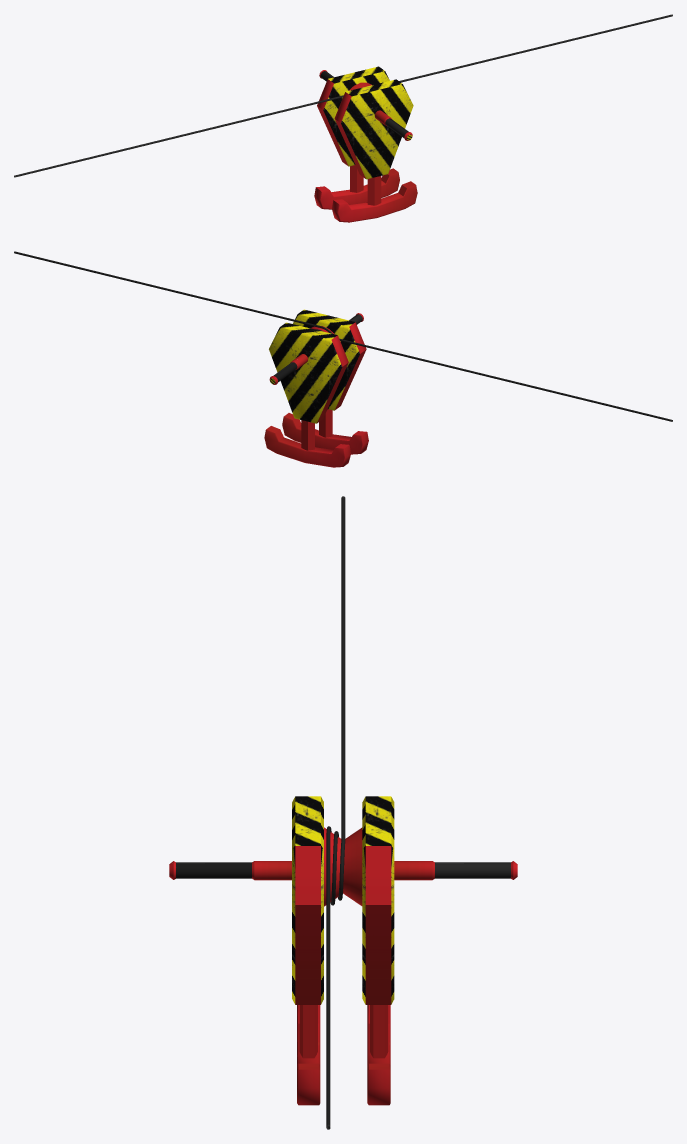
File: Zipline.FBX
The picture shows the model from 3 angles, top to bottom: view 1: azimuth 30°, elevation 25°; view 2: azimuth 150°, elevation 25°; view 3: azimuth 270°, elevation 25°; orthographic projection. The views are drawn at different scales.
Parts seen in each view (by area): view 1: Zipline, Rope; view 2: Zipline, Rope; view 3: Zipline, Rope.
Part boxes in pixels (x1,y1,x2,y2): Zipline: (314,66,417,222); Rope: (14,14,672,177); Zipline: (264,309,368,467); Rope: (14,251,672,421); Zipline: (169,796,517,1105); Rope: (326,496,345,1129).
Size of the model in its own units: 374 by 70.18 by 86.14.
1 material, 1 textured.
